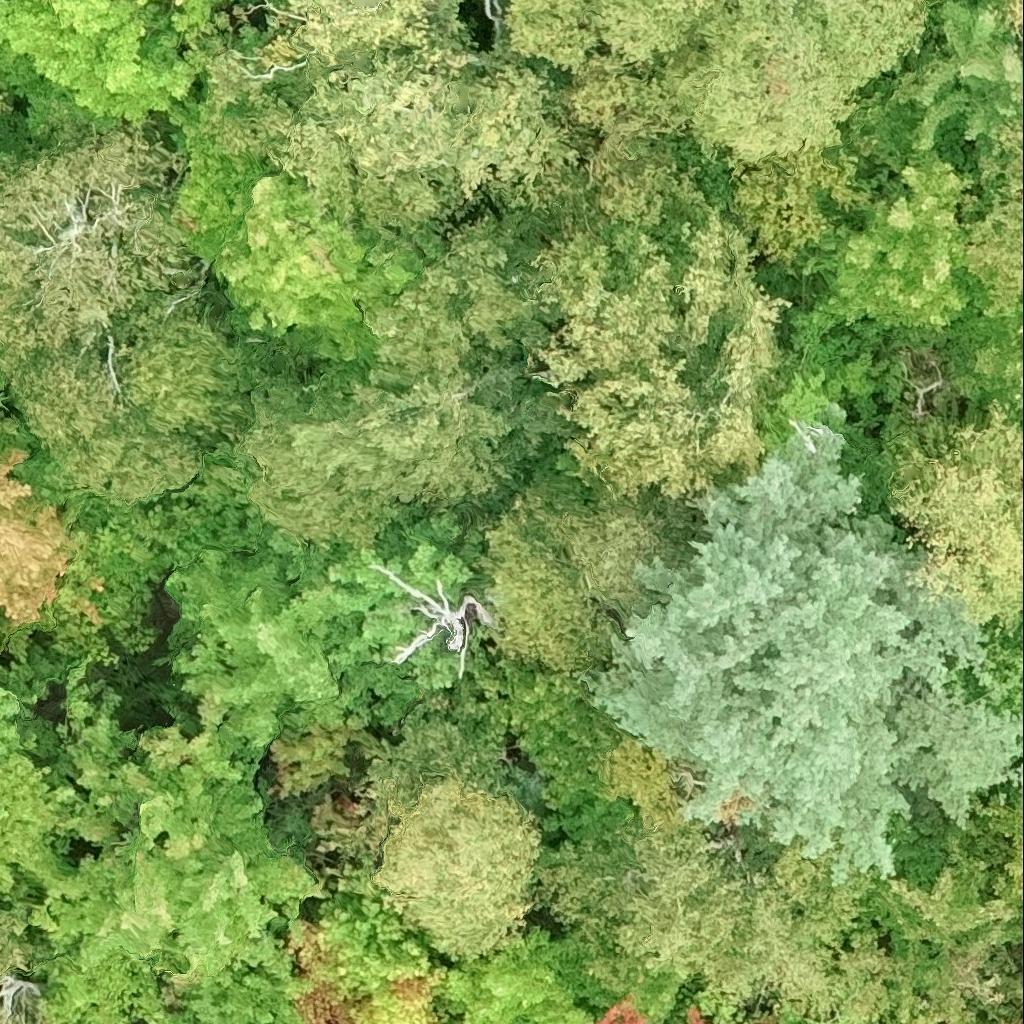crown: (580, 427, 1023, 881), (237, 209, 584, 548), (500, 0, 929, 266), (532, 732, 908, 1023), (525, 145, 790, 504), (41, 683, 319, 970), (313, 712, 541, 970), (272, 491, 511, 735), (217, 50, 484, 260), (0, 133, 202, 363), (212, 170, 446, 360), (460, 603, 640, 845), (12, 310, 244, 497), (166, 518, 340, 749), (800, 147, 994, 332), (27, 901, 313, 1023), (0, 0, 220, 155), (867, 814, 1023, 1023), (163, 10, 285, 269), (891, 403, 1023, 629), (290, 855, 460, 1023), (207, 0, 478, 105), (855, 0, 1023, 168), (476, 487, 602, 673), (453, 43, 581, 209), (563, 496, 708, 626), (0, 445, 86, 649), (429, 926, 594, 1023), (368, 562, 497, 676), (0, 684, 68, 896), (547, 938, 686, 1023), (943, 287, 1023, 427), (972, 128, 1023, 315), (941, 614, 1023, 719), (969, 782, 1023, 908), (0, 905, 41, 1023), (0, 109, 52, 185), (597, 993, 646, 1023), (774, 1008, 827, 1023), (0, 71, 10, 116), (1009, 733, 1023, 765), (686, 1005, 705, 1023), (0, 348, 7, 392)
